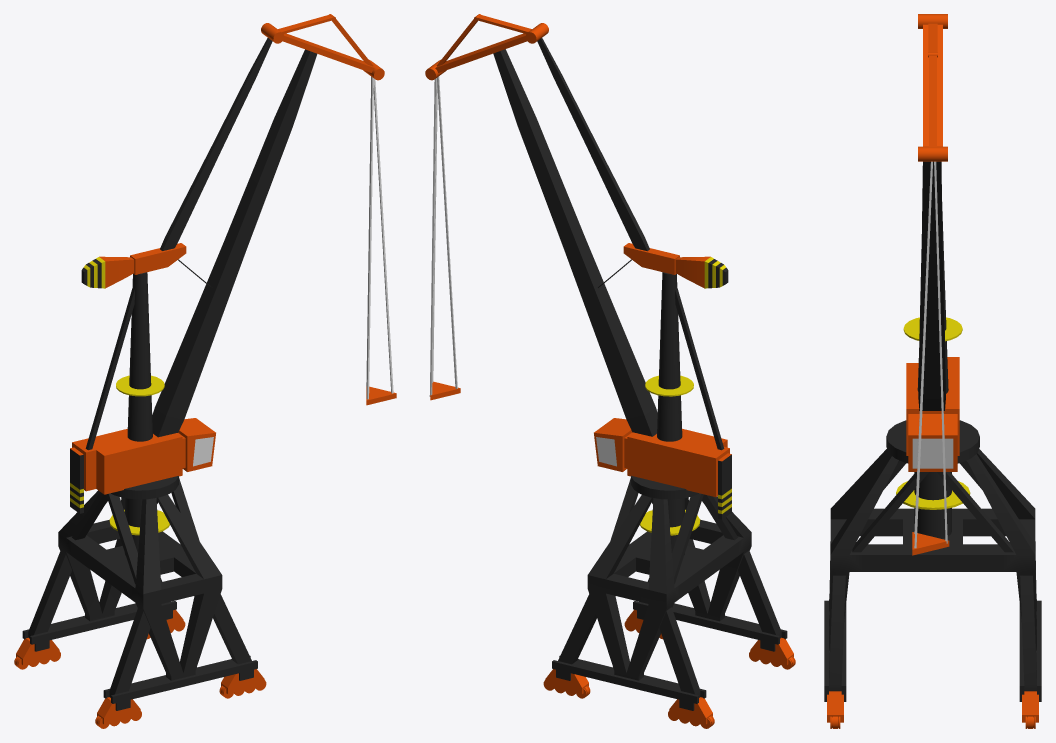
File: Crane.fbx
The picture shows the model from 3 angles, left to right: view 1: azimuth 30°, elevation 25°; view 2: azimuth 150°, elevation 25°; view 3: azimuth 270°, elevation 25°; orthographic projection. The views are drawn at different scales.
Parts seen in each view (by area): view 1: basic, base beam, cabin, tube up, beam 2, level, wheels box, whips, Beam level, beam, stair, base for cabin (+1 smaller); view 2: basic, base beam, cabin, tube up, beam 2, level, whips, wheels box, Beam level, beam, stair, base for cabin (+1 smaller); view 3: basic, base beam, cabin, Beam level, whips, tube, base for cabin, stair, wheels box, magnet, tube up.
Part boxes in pixels (x1=…): basic: x1=22, y1=478, x2=257, y2=710; base beam: x1=152, y1=49, x2=317, y2=437; cabin: x1=70, y1=418, x2=215, y2=513; tube up: x1=127, y1=272, x2=152, y2=441; beam 2: x1=160, y1=37, x2=272, y2=250; level: x1=81, y1=243, x2=186, y2=288; wheels box: x1=16, y1=609, x2=264, y2=724; whips: x1=366, y1=76, x2=393, y2=399; Beam level: x1=261, y1=14, x2=384, y2=80; beam: x1=85, y1=287, x2=135, y2=450; stair: x1=109, y1=375, x2=169, y2=535; base for cabin: x1=111, y1=476, x2=178, y2=499; basic: x1=552, y1=478, x2=787, y2=710; base beam: x1=493, y1=49, x2=657, y2=436; cabin: x1=594, y1=418, x2=731, y2=519; tube up: x1=657, y1=272, x2=682, y2=441; beam 2: x1=537, y1=38, x2=649, y2=251; level: x1=623, y1=243, x2=728, y2=288; whips: x1=429, y1=76, x2=457, y2=396; wheels box: x1=545, y1=609, x2=793, y2=724; Beam level: x1=425, y1=14, x2=548, y2=80; beam: x1=675, y1=287, x2=724, y2=450; stair: x1=640, y1=375, x2=700, y2=535; base for cabin: x1=631, y1=475, x2=698, y2=499; basic: x1=824, y1=449, x2=1041, y2=701; base beam: x1=918, y1=161, x2=945, y2=410; cabin: x1=906, y1=357, x2=959, y2=471; Beam level: x1=918, y1=14, x2=947, y2=161; whips: x1=914, y1=161, x2=947, y2=548; tube: x1=914, y1=472, x2=951, y2=538; base for cabin: x1=886, y1=420, x2=979, y2=463; stair: x1=896, y1=317, x2=970, y2=509; wheels box: x1=827, y1=691, x2=1038, y2=722; magnet: x1=912, y1=532, x2=949, y2=555; tube up: x1=917, y1=202, x2=948, y2=393.
Size of the model in its own units: 2445 by 4359 by 1151.
